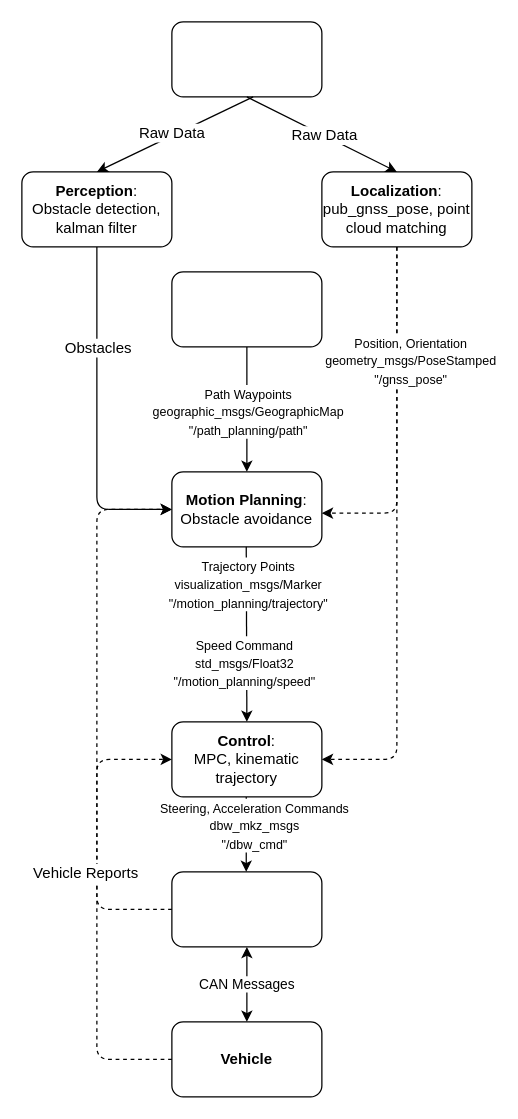
This 518x1119 diagram has some shape labels left out. Here are the shapes that lost their labels. From the top down, the centre of each, then its label:
point 246,59: Sensors : LiDAR, INS
point 246,309: Path Planning : Read CSV path
point 246,909: Drive-by-Wire : Twist controller, Dataspeed CAN, etc.
